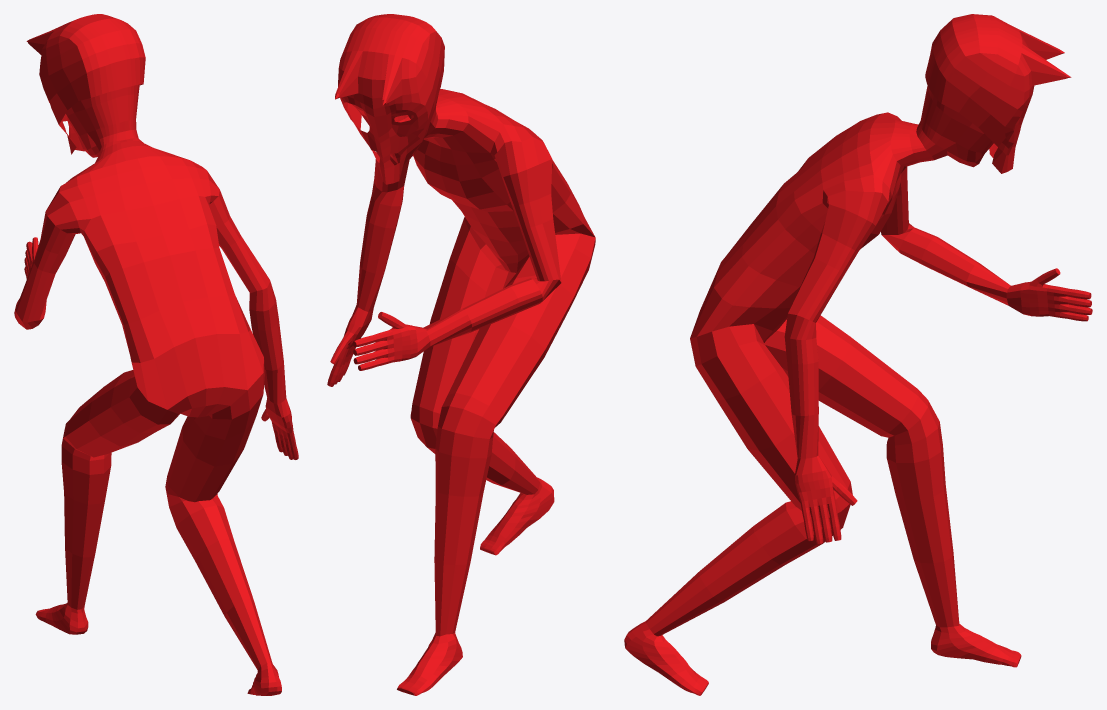
File: saltoadelanteE_000145.obj
3 renders of one model, left to right at view 1: azimuth 30°, elevation 25°; view 2: azimuth 150°, elevation 25°; view 3: azimuth 270°, elevation 25°, orthographic. The views are drawn at different scales.
Parts seen in each view (by area): view 1: Plane.002_Plane.001; view 2: Plane.002_Plane.001; view 3: Plane.002_Plane.001.
Part boxes in pixels (x1=…): Plane.002_Plane.001: x1=14, y1=14, x2=298, y2=695; Plane.002_Plane.001: x1=327, y1=14, x2=595, y2=695; Plane.002_Plane.001: x1=624, y1=14, x2=1092, y2=695.
Size of the model in its own units: 2.4 by 5.67 by 3.66.
